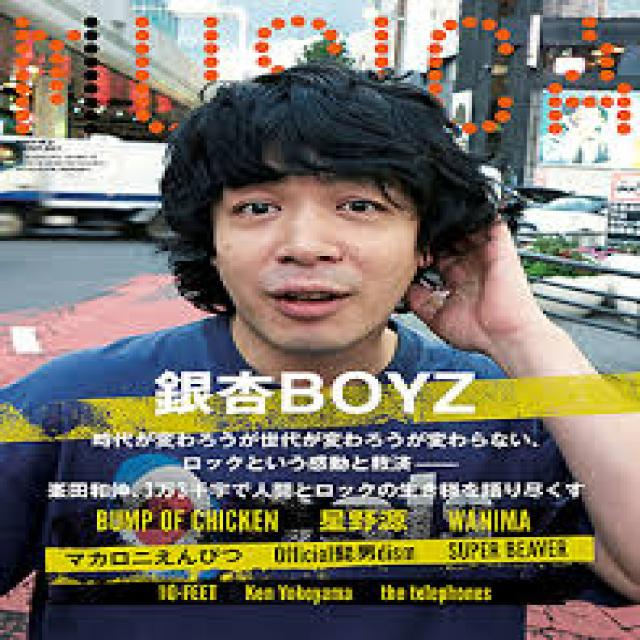paper: (19, 0, 620, 640)
